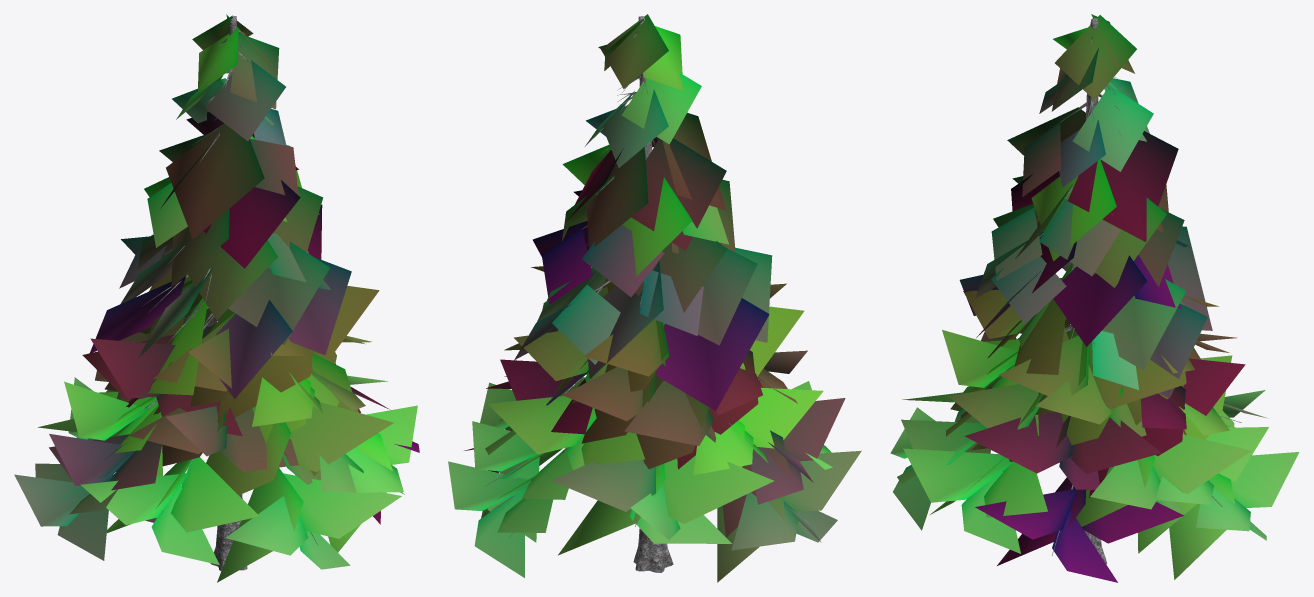
The model's file is Spruce_LOD1.fbx.
3 views of the same model, side by side, from view 1: azimuth 30°, elevation 25°; view 2: azimuth 150°, elevation 25°; view 3: azimuth 270°, elevation 25° (orthographic).
Parts seen in each view (by area): view 1: Foliage, Bark; view 2: Foliage, Bark; view 3: Foliage, Bark.
Boxes of the visible parts, x1,y1,x2,y2 form: Foliage: [14, 14, 419, 582]; Bark: [113, 15, 318, 570]; Foliage: [448, 14, 861, 582]; Bark: [485, 16, 673, 572]; Foliage: [890, 14, 1299, 582]; Bark: [915, 17, 1241, 564].
Size of the model in its own units: 4.14 by 6.08 by 4.11.
